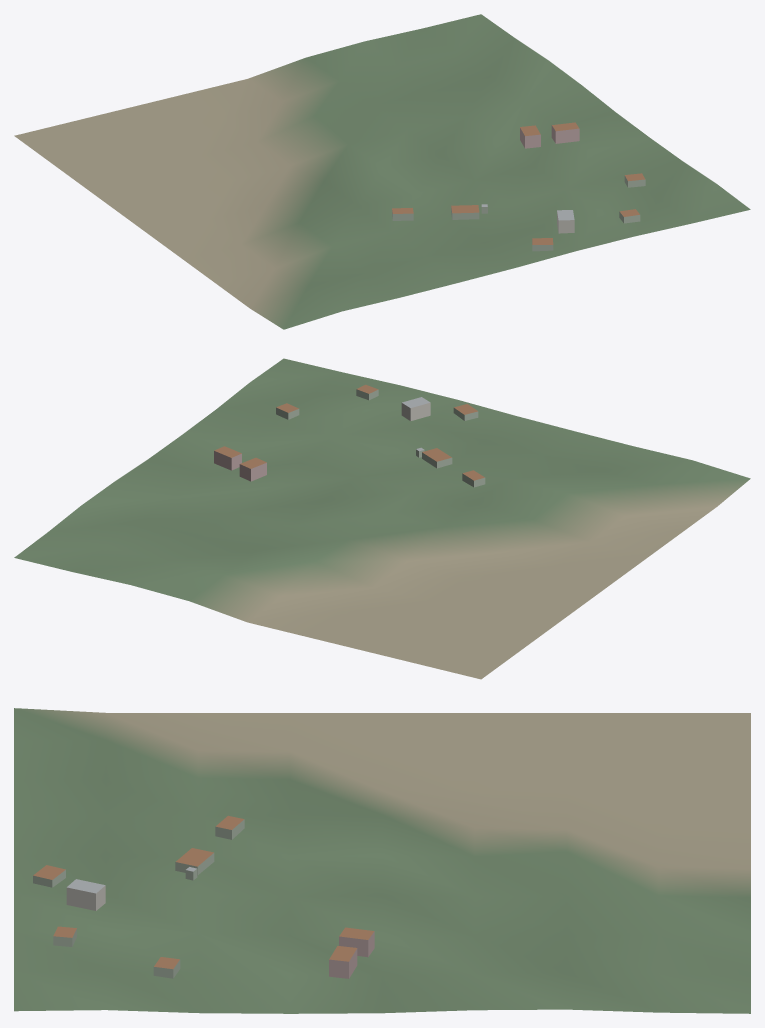
3 views of the same model, one above another, from view 1: azimuth 30°, elevation 25°; view 2: azimuth 150°, elevation 25°; view 3: azimuth 270°, elevation 25° (orthographic). The views are drawn at different scales.
Visible parts, largest first — view 1: Lo; view 2: Lo; view 3: Lo.
Part boxes in pixels (<box>): Lo: <box>14,14,750,329</box>; Lo: <box>14,358,750,679</box>; Lo: <box>14,708,750,1013</box>.
Bounding box in the file's own units: 256 × 12.32 × 256.
